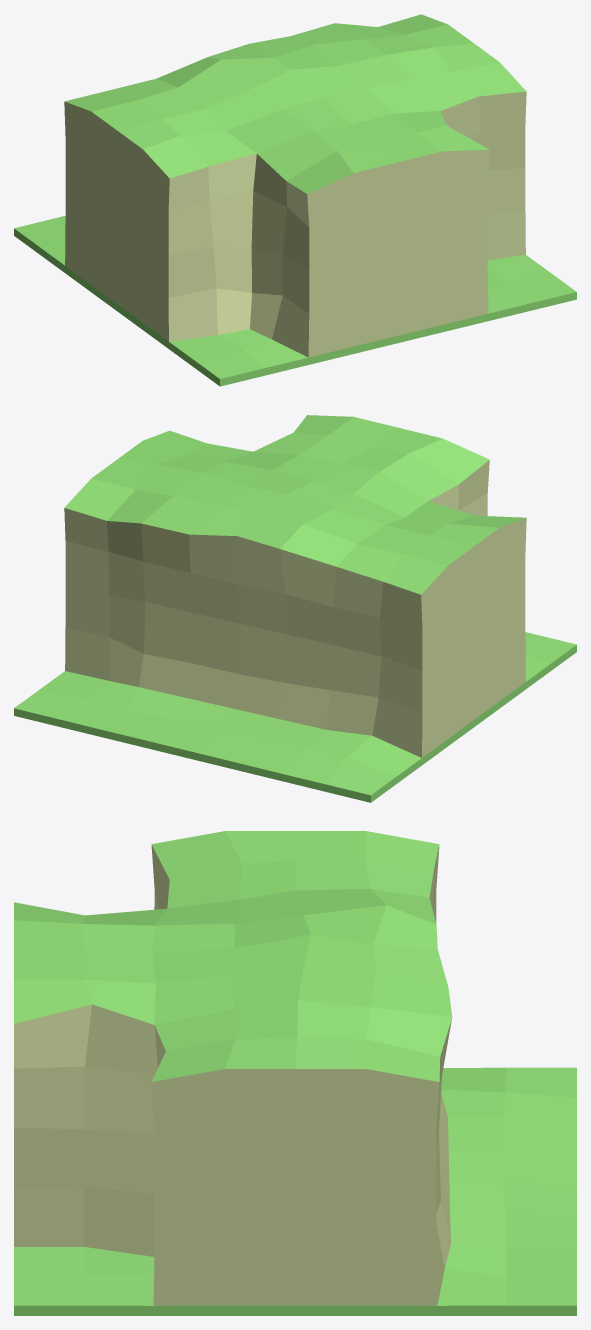
File: wall_slim_join3_1.glb
The picture shows the model from 3 angles, top to bottom: view 1: azimuth 30°, elevation 25°; view 2: azimuth 150°, elevation 25°; view 3: azimuth 270°, elevation 25°; orthographic projection. The views are drawn at different scales.
Parts seen in each view (by area): view 1: wall_slim_join3_1; view 2: wall_slim_join3_1; view 3: wall_slim_join3_1.
Part boxes in pixels (x1=…): wall_slim_join3_1: x1=14, y1=14, x2=576, y2=386; wall_slim_join3_1: x1=14, y1=415, x2=576, y2=802; wall_slim_join3_1: x1=14, y1=831, x2=576, y2=1315.
Size of the model in its own units: 2 by 1.04 by 2.
